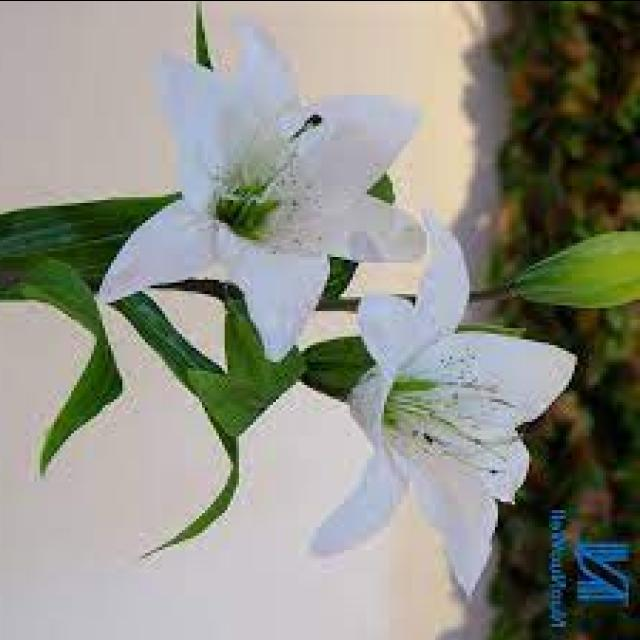lily: (304, 228, 576, 618)
